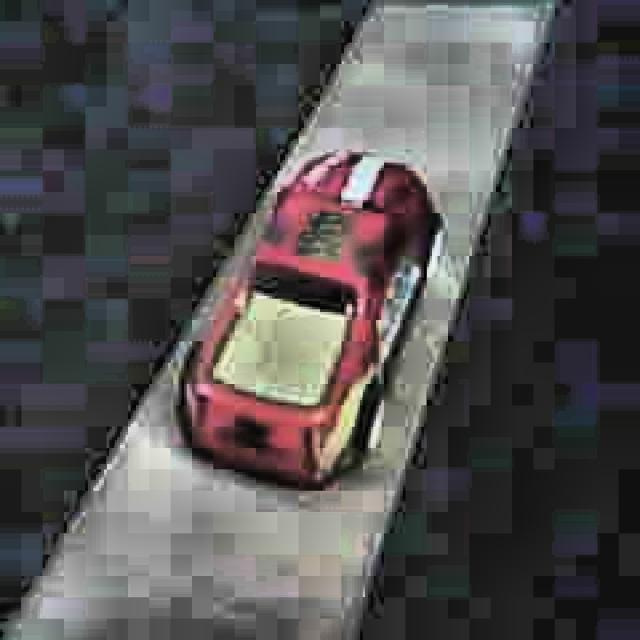car: (174, 145, 443, 494)
